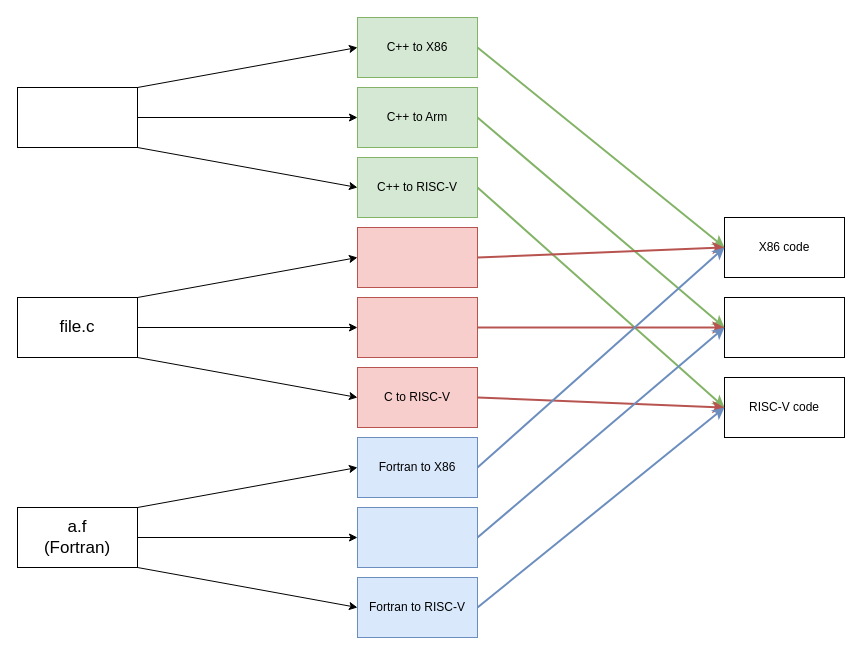
Some shapes in this 862 by 655 pixel diagram are drawn without their labels. The shapes that lost their labels are listed below. From the top down, each one's box as (x1, y1, x2, y2) in pixels, then its label:
(16, 86, 138, 148): file.cpp
(356, 226, 478, 288): C to X86
(356, 296, 478, 358): C to Arm
(724, 296, 844, 358): ARM code
(356, 506, 478, 568): Fortran to Arm
